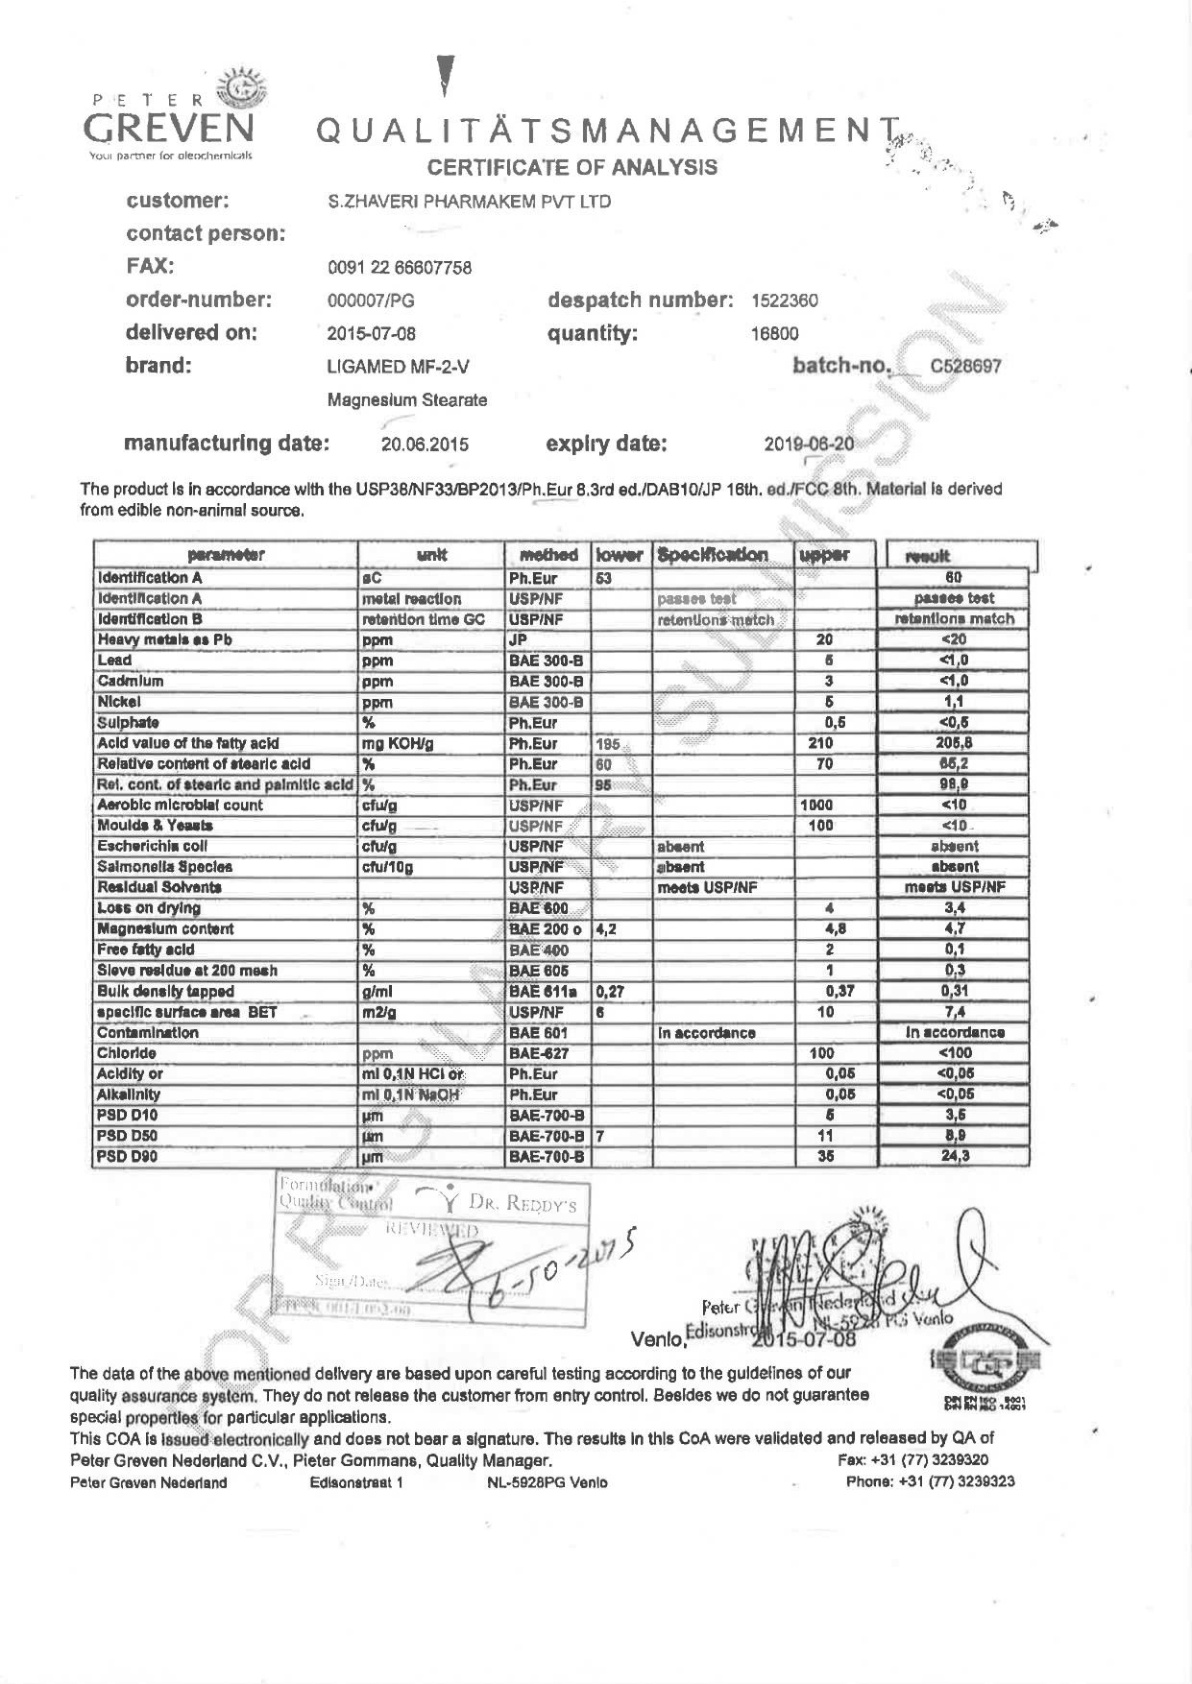full_lined: (90, 536, 1040, 1171)
nolines: (115, 186, 1009, 462)
